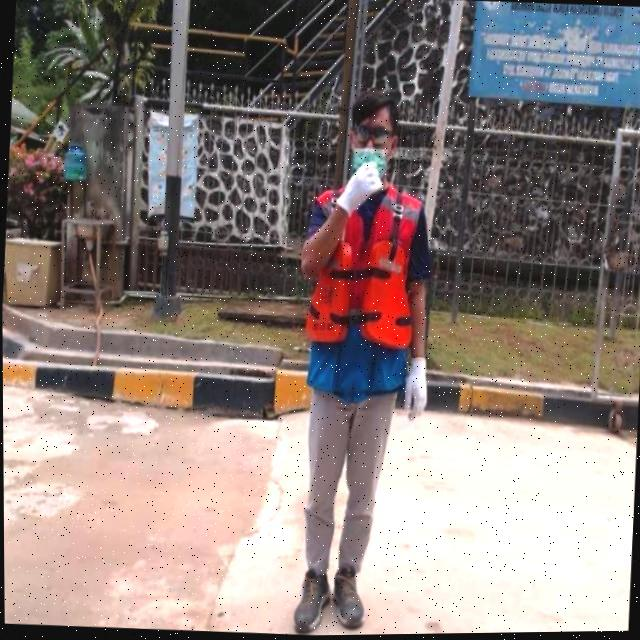goggles_on: (352, 121, 396, 147)
